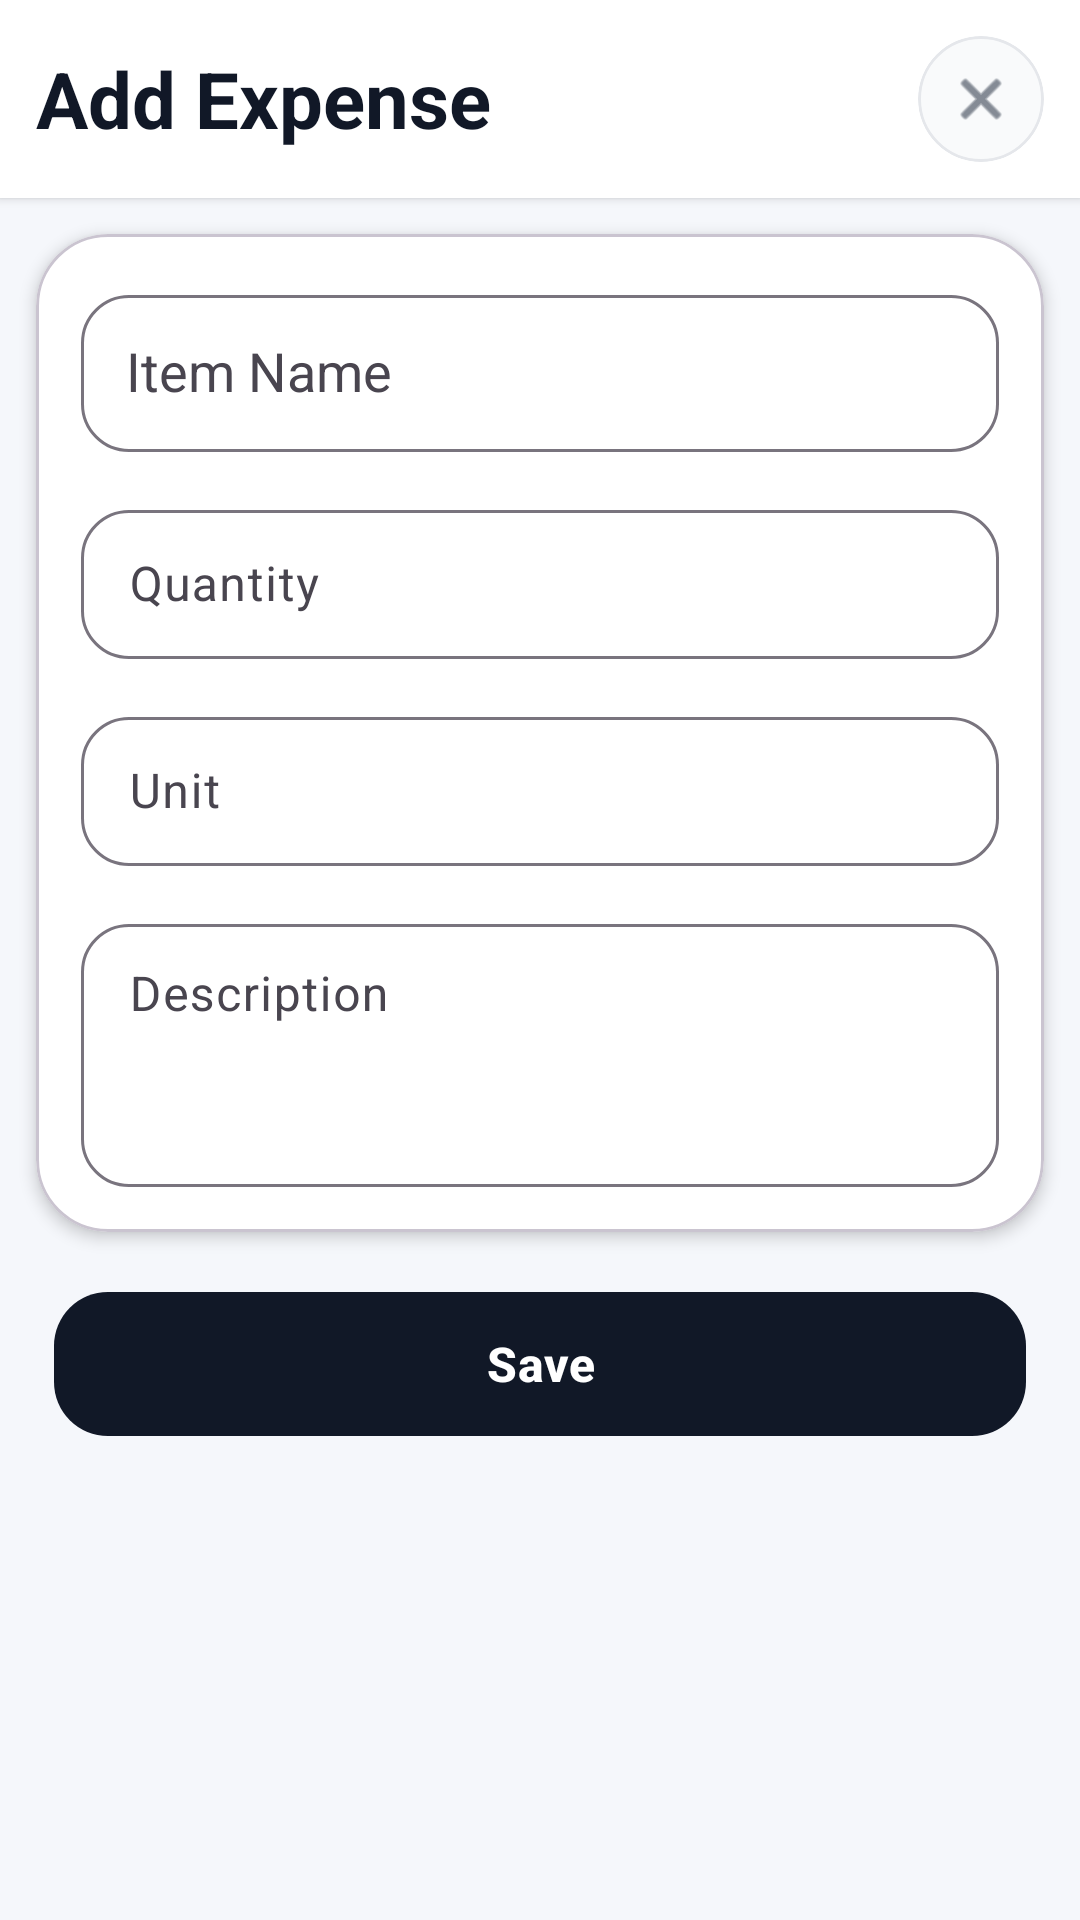

Icon bounding boxes for this 1080px x 1920px phone screenshot, format (x1, y1, x2, y2):
close clear cancel: (918, 36, 1044, 162)
